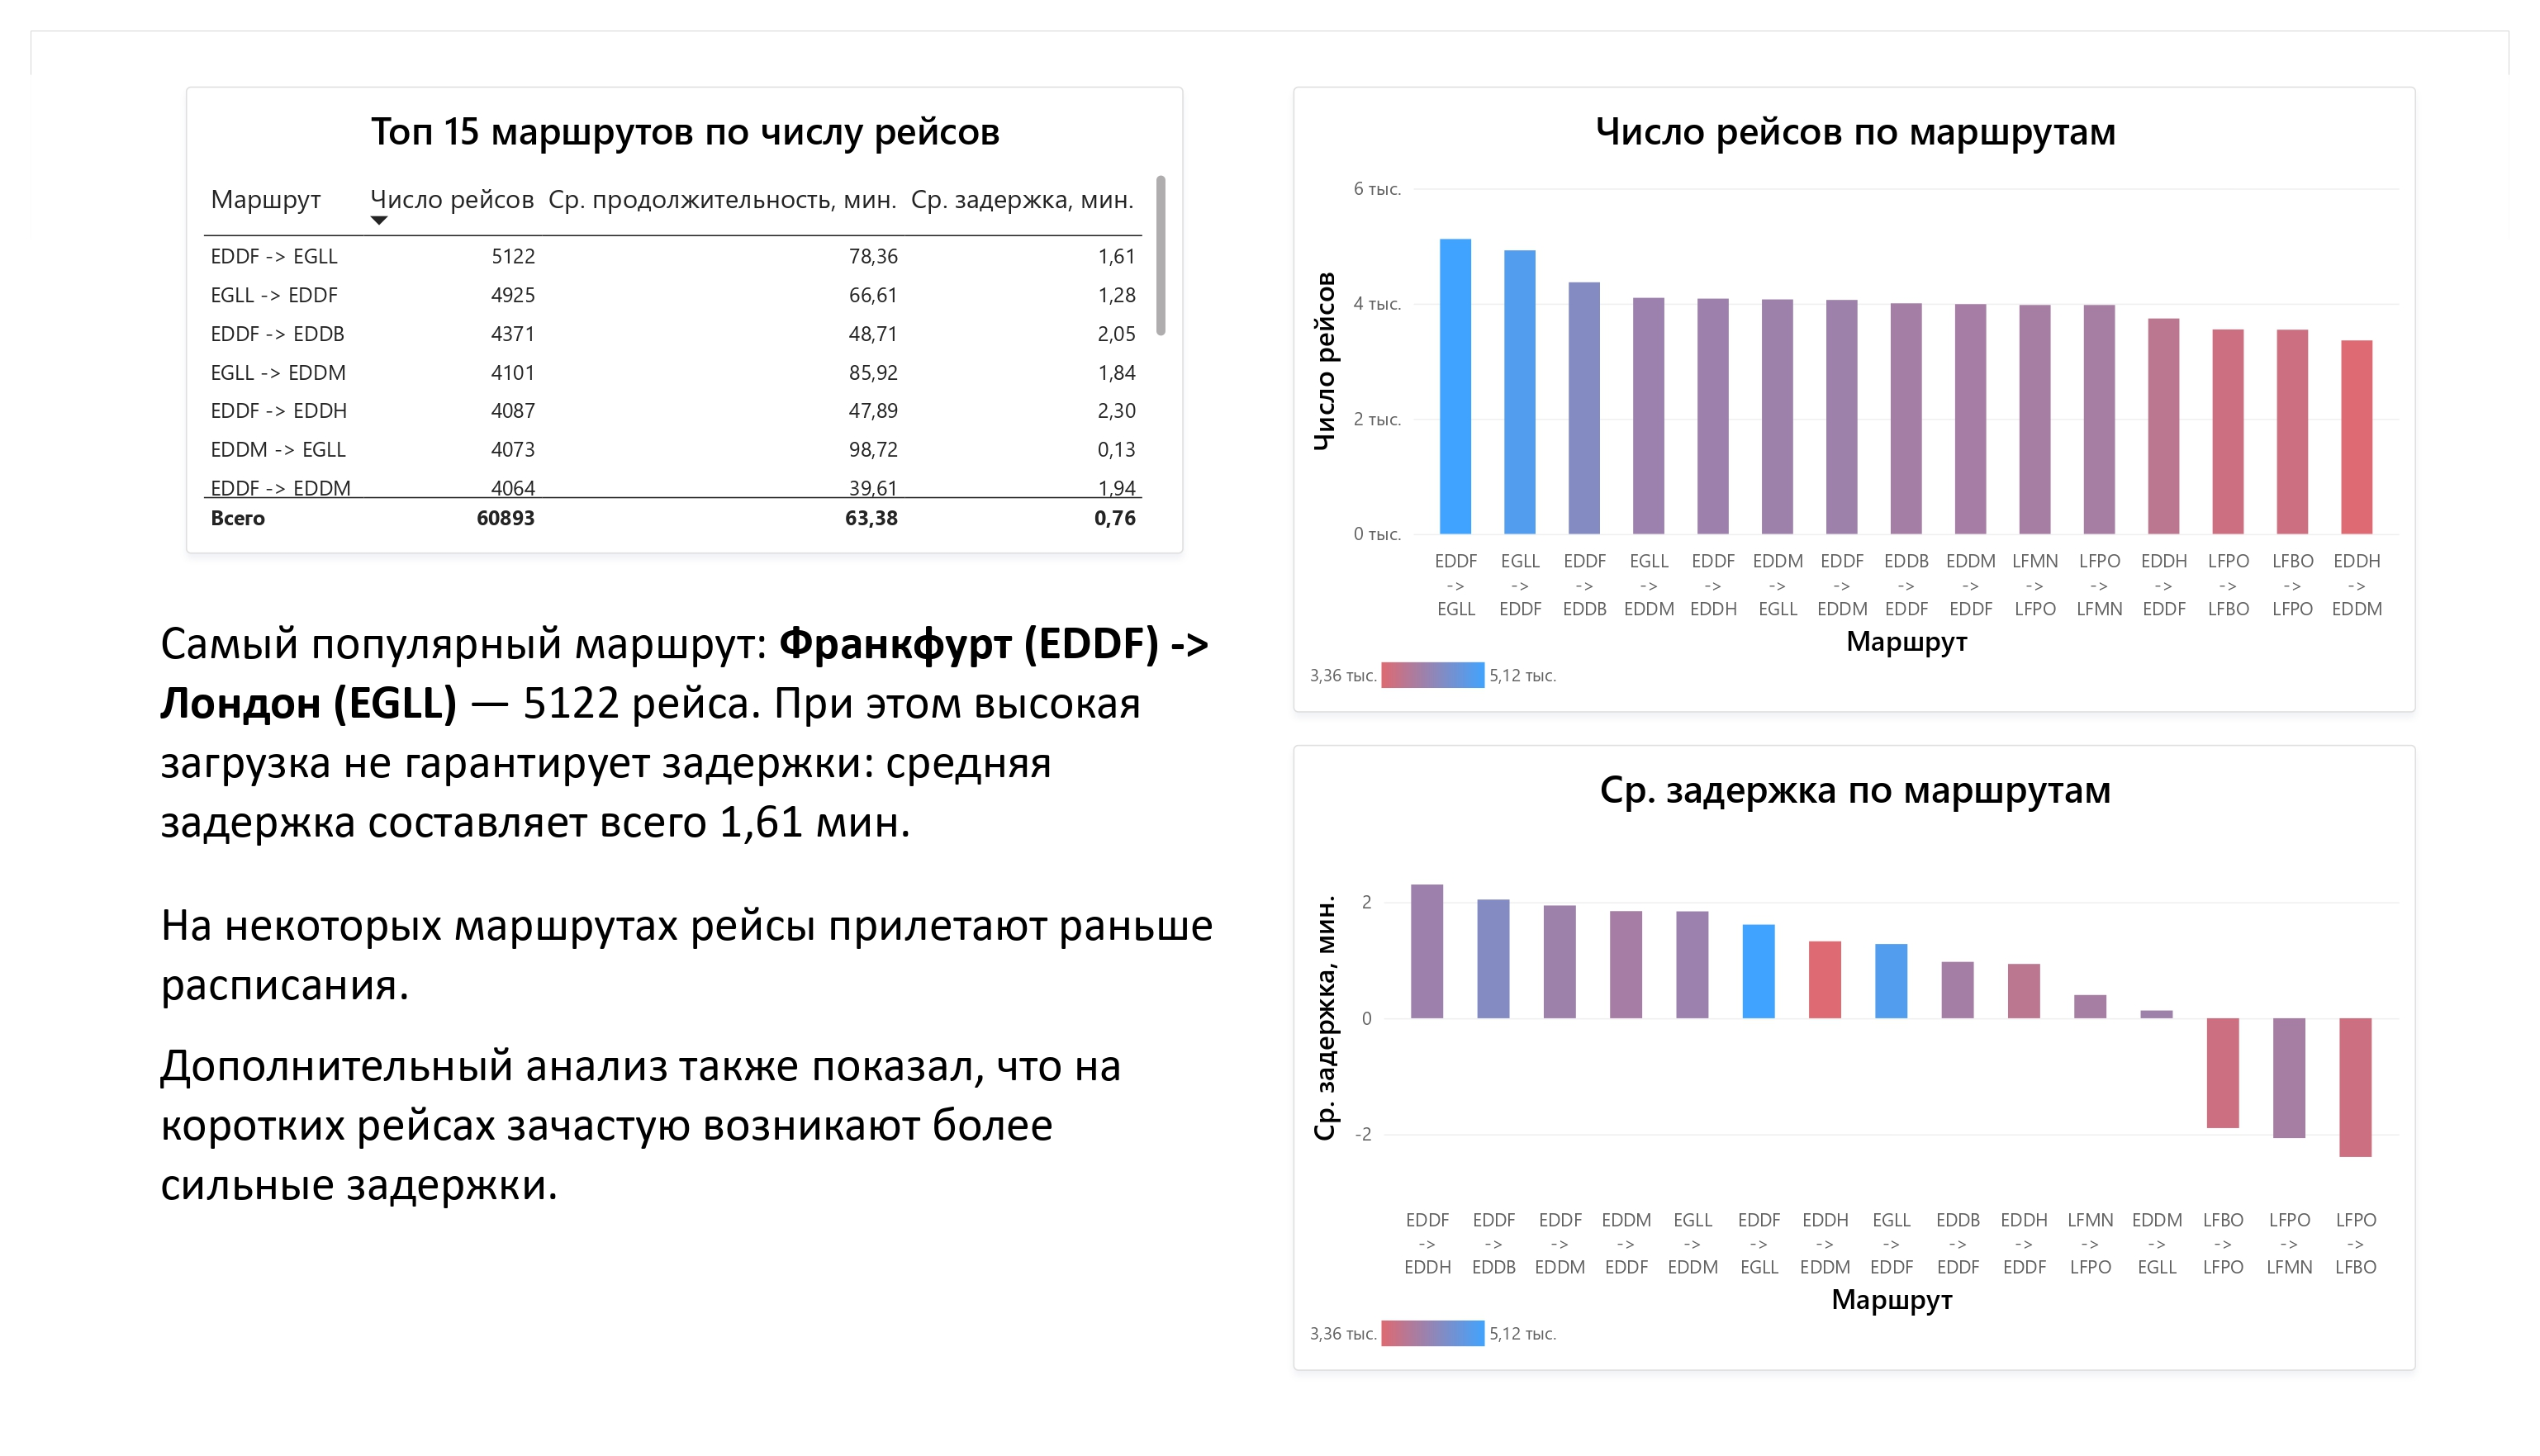

The dashboard page shown, as its layout file describes it:
{"tool":"powerbi","page":{"name":"Длительность маршрутов","canvas":[1920,1080],"ordinal":3},"visuals":[{"type":"tableEx","title":"Топ 15 маршрутов по числу рейсов","fields":{"Values":["flights.route","flights.Total Flights","flights.Avg Duration (min)","flights.Avg Delay (min)"]},"box":[120,43,772.5,362.5],"z":0},{"type":"columnChart","title":"Число рейсов по маршрутам","fields":{"Category":["flights.route"],"Y":["flights.Total Flights"]},"box":[977.5,42.5,870,485],"z":2000},{"type":"columnChart","title":"Ср. задержка по маршрутам","fields":{"Category":["flights.route"],"Y":["flights.Avg Delay (min)"]},"box":[977.5,552.5,870,485],"z":3000},{"type":"textbox","box":[100,450,822.5,565],"z":3001}]}

Visuals, with their boxes on the page's 1920x1080 design canvas (x1, y1, x2, y2). These are canvas units, not pixel positions in the 2540x1456 screenshot, which may show the page scaled, cropped or inside an application window:
"Топ 15 маршрутов по числу рейсов" tableEx: region(120, 43, 892, 406)
"Число рейсов по маршрутам" columnChart: region(978, 42, 1848, 528)
"Ср. задержка по маршрутам" columnChart: region(978, 552, 1848, 1038)
textbox: region(100, 450, 922, 1015)
